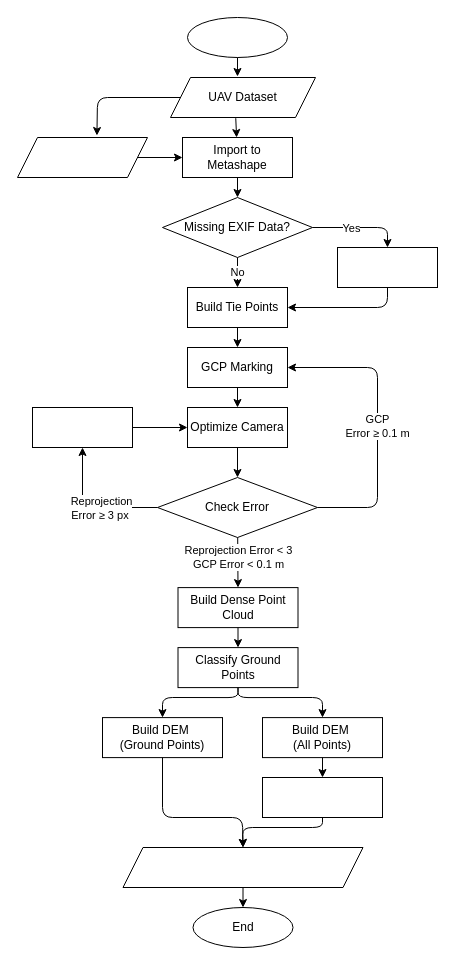
This 455x965 diagram has some shape labels left out. Each missing label, with the centre of its shape:
"Build Orthomosaic" belongs at (x=322, y=797).
"Clean Reprojection Error" belongs at (x=82, y=427).
"DSM, DTM, Orthomosaic, Point Cloud" belongs at (x=242, y=867).
"GCP Reference" belongs at (x=82, y=157).
"Import Reference" belongs at (x=387, y=267).
"Start" belongs at (x=237, y=37).
